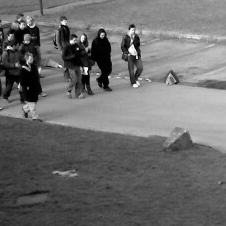person: (19, 51, 41, 121), (121, 24, 143, 89), (64, 32, 84, 98), (55, 16, 74, 81), (93, 28, 112, 91), (2, 40, 21, 100), (78, 33, 94, 94), (20, 31, 40, 71), (27, 14, 40, 44), (3, 30, 19, 47), (5, 21, 21, 36), (13, 11, 27, 26), (17, 19, 27, 38)
